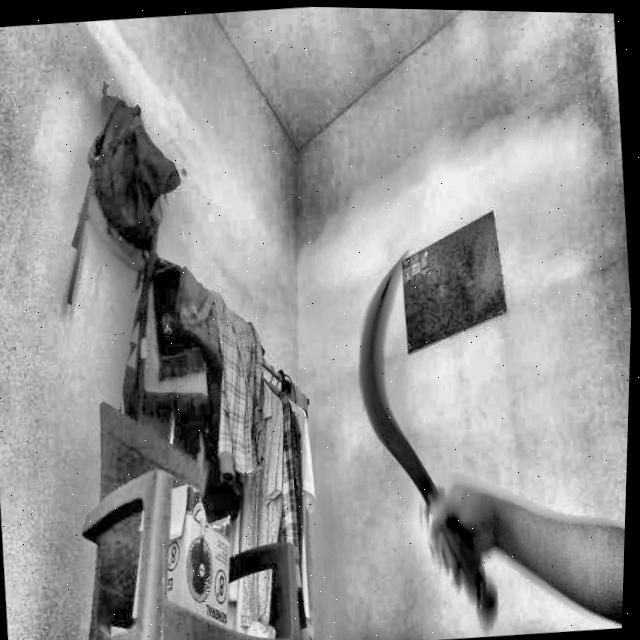celurit: (353, 250, 501, 624)
